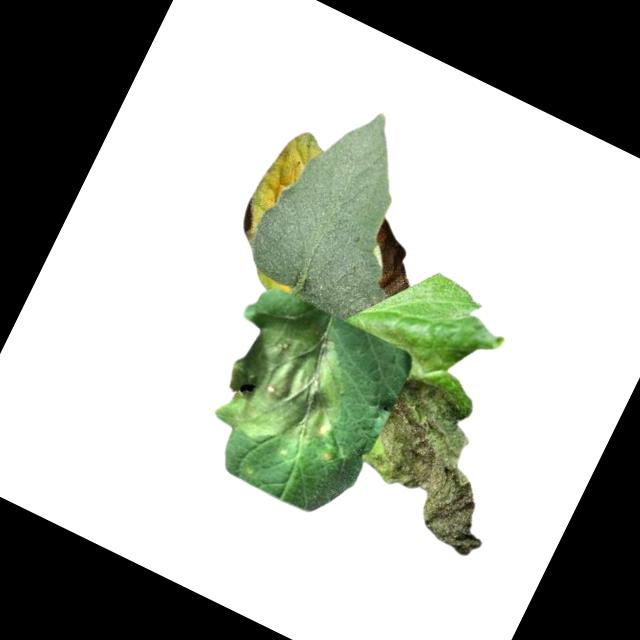Late_blight: (346, 361, 540, 561), (195, 292, 385, 477), (345, 250, 520, 407), (233, 120, 327, 251), (352, 215, 434, 306)
healthy: (239, 85, 457, 331)
